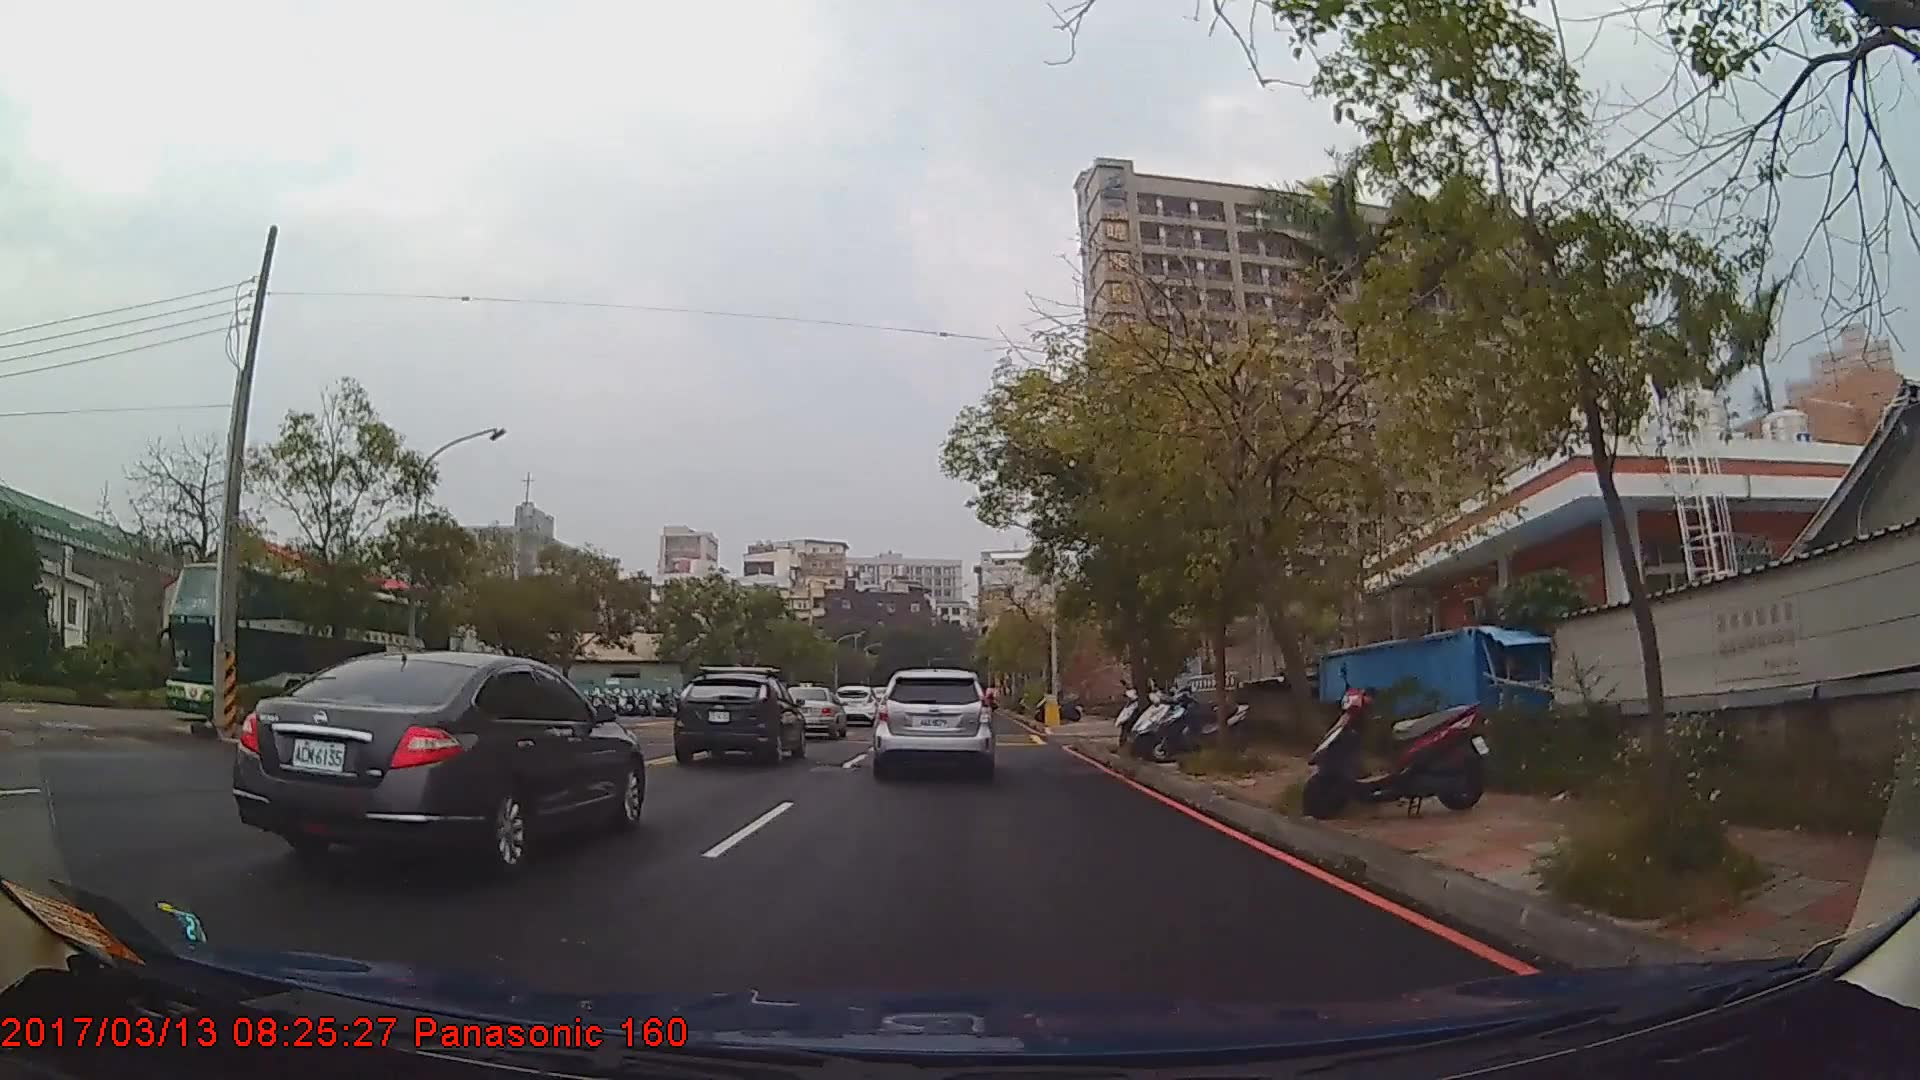vehicle: (229, 646, 647, 873), (166, 558, 427, 733), (670, 670, 806, 769), (876, 666, 993, 778), (781, 683, 845, 740), (833, 683, 880, 727)
